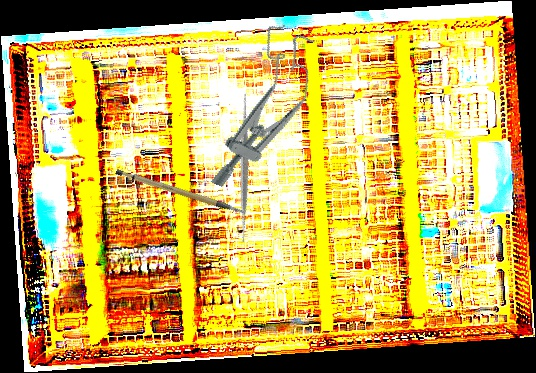Scalpel Handle: (113, 152, 245, 234)
Spatula Surgical: (165, 89, 323, 247)
Speculum: (198, 19, 331, 204)
